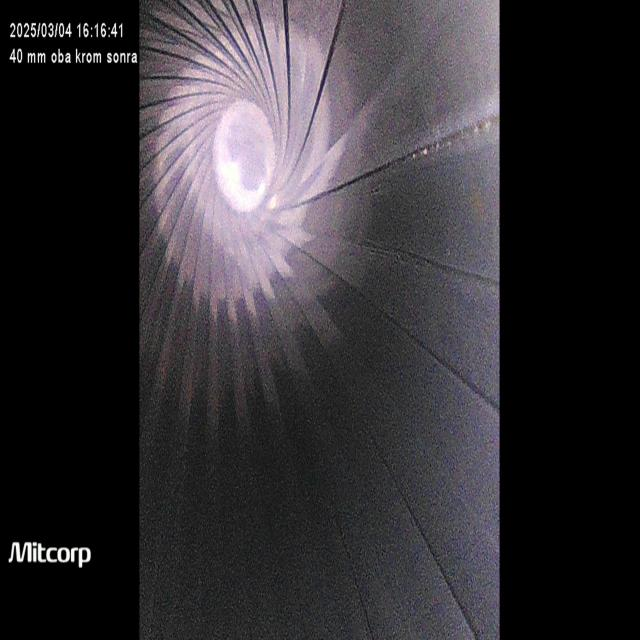hata_8.1: (394, 111, 500, 176)
